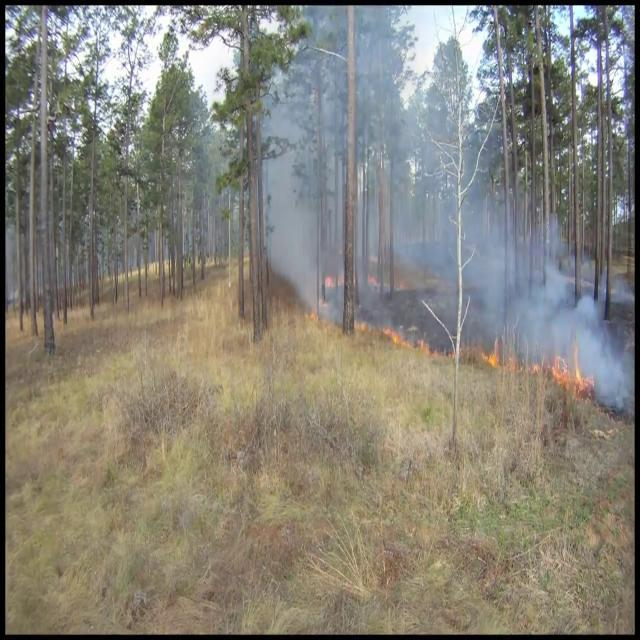Fire: (480, 336, 502, 370)
Smoke: (248, 0, 481, 351), (469, 184, 627, 398)
